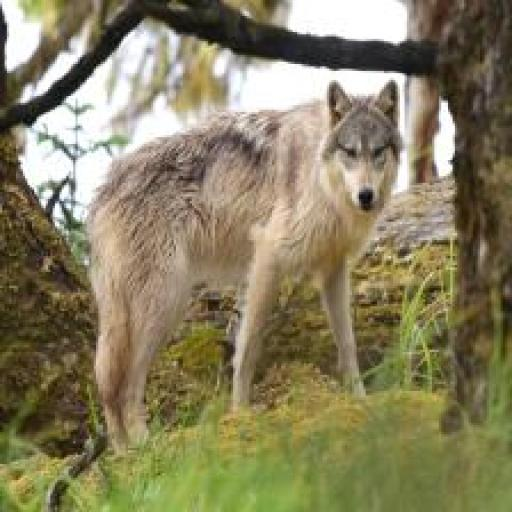wolf: (73, 66, 425, 462)
